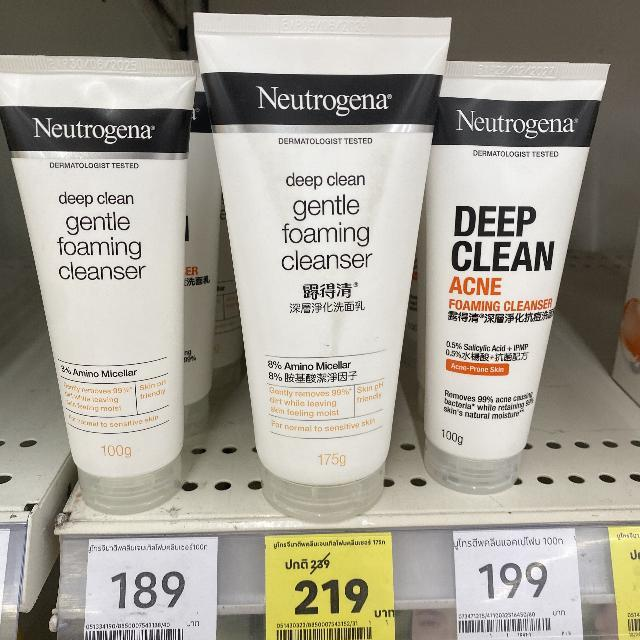Squeeze Tube: (4, 5, 608, 530)
